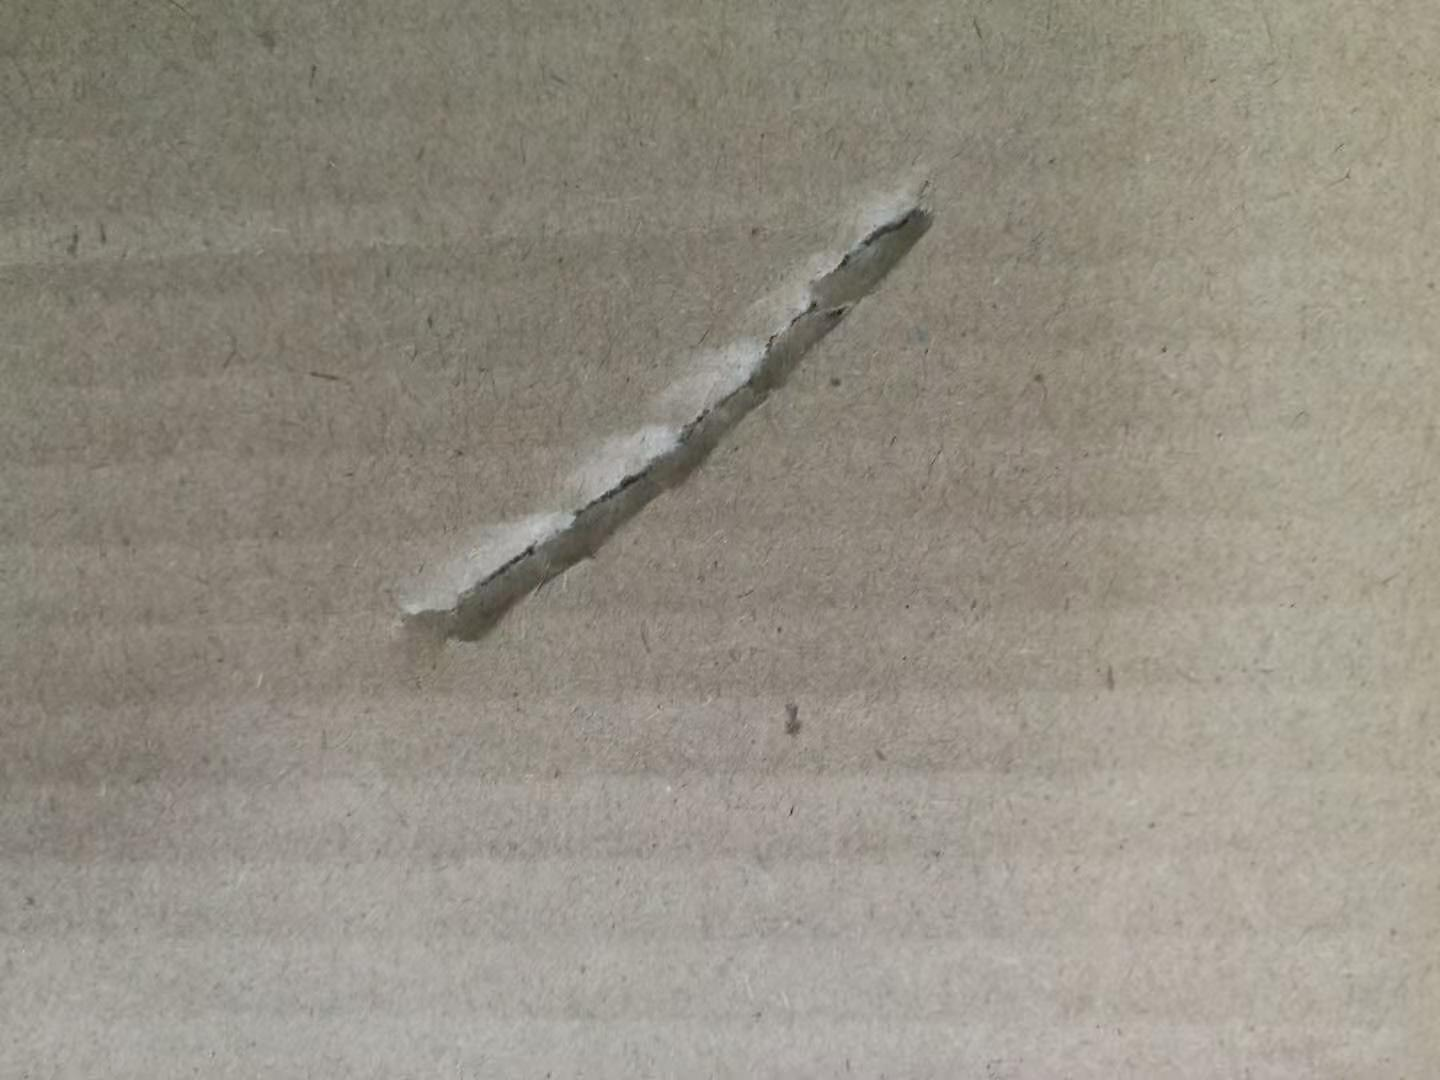defect: (342, 119, 1002, 689)
